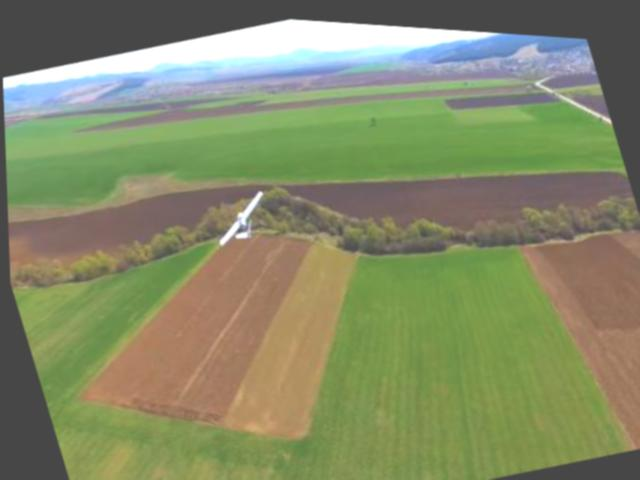uav: (200, 172, 284, 258)
